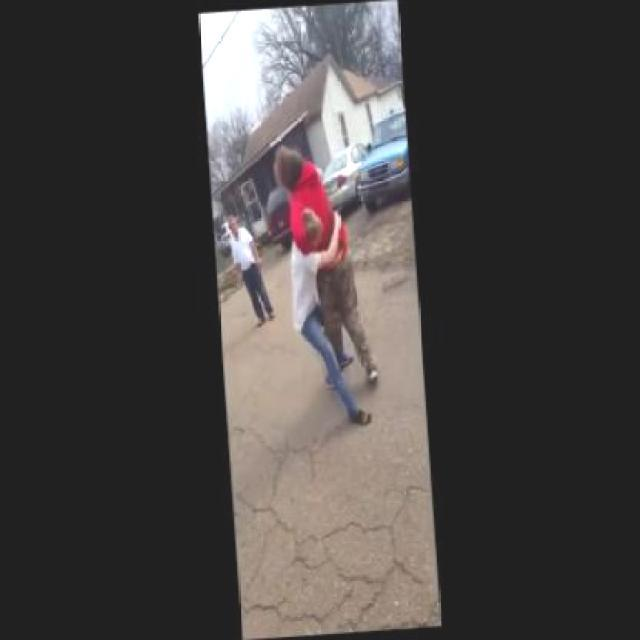fight: (270, 140, 364, 366)
non-fight: (226, 208, 274, 330)
